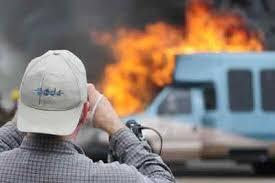fire: (69, 4, 265, 115)
